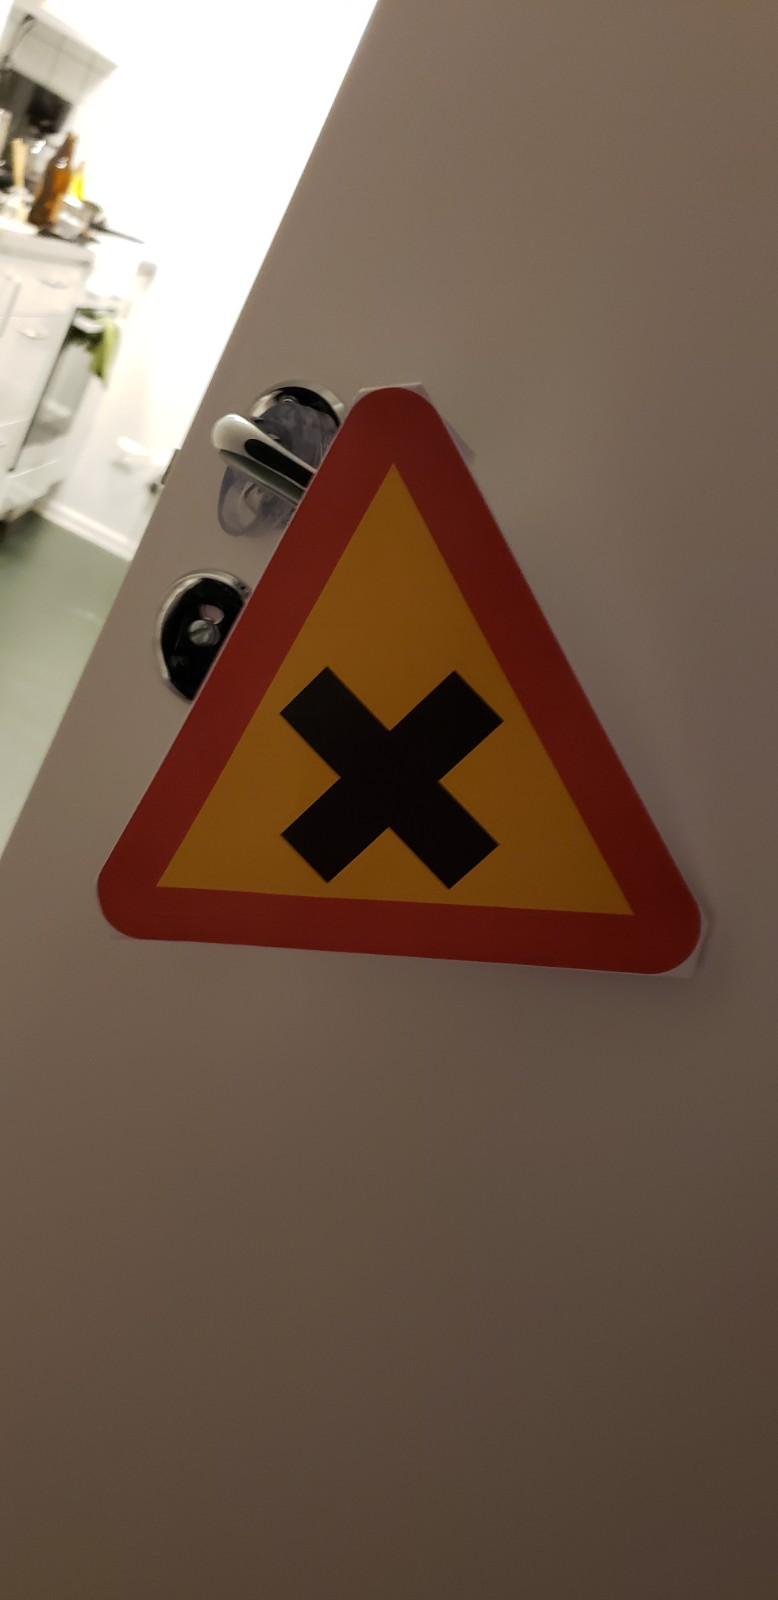junction: (89, 346, 752, 1190)
